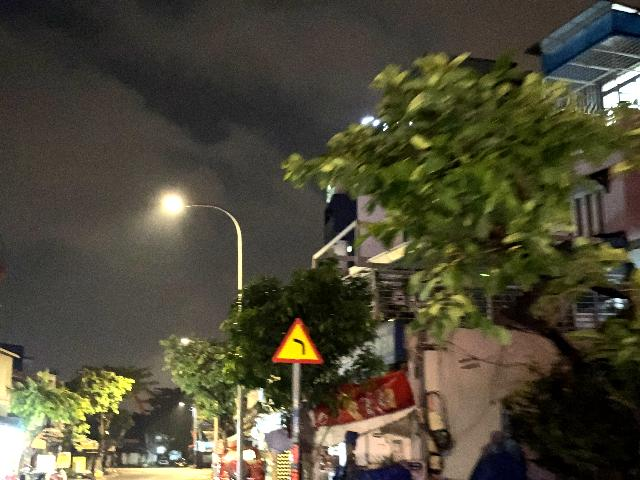cho-ngoat-nguy-hiem-ben-trai: (272, 317, 324, 364)
